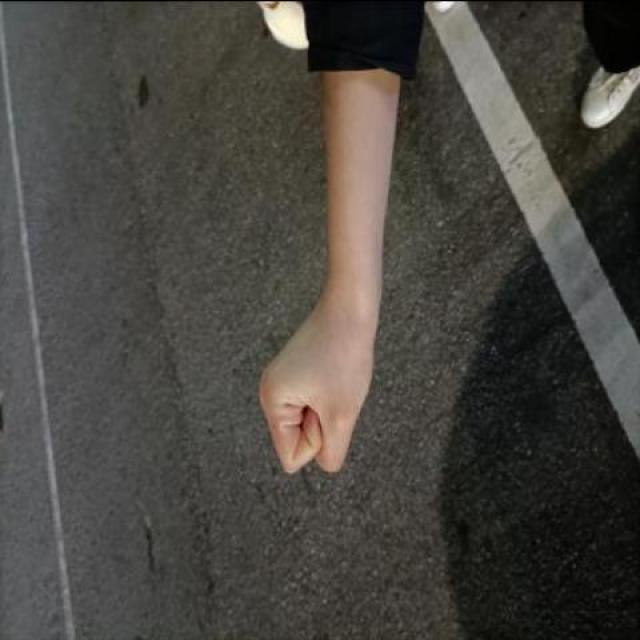Closed Hand: (262, 280, 390, 495)
